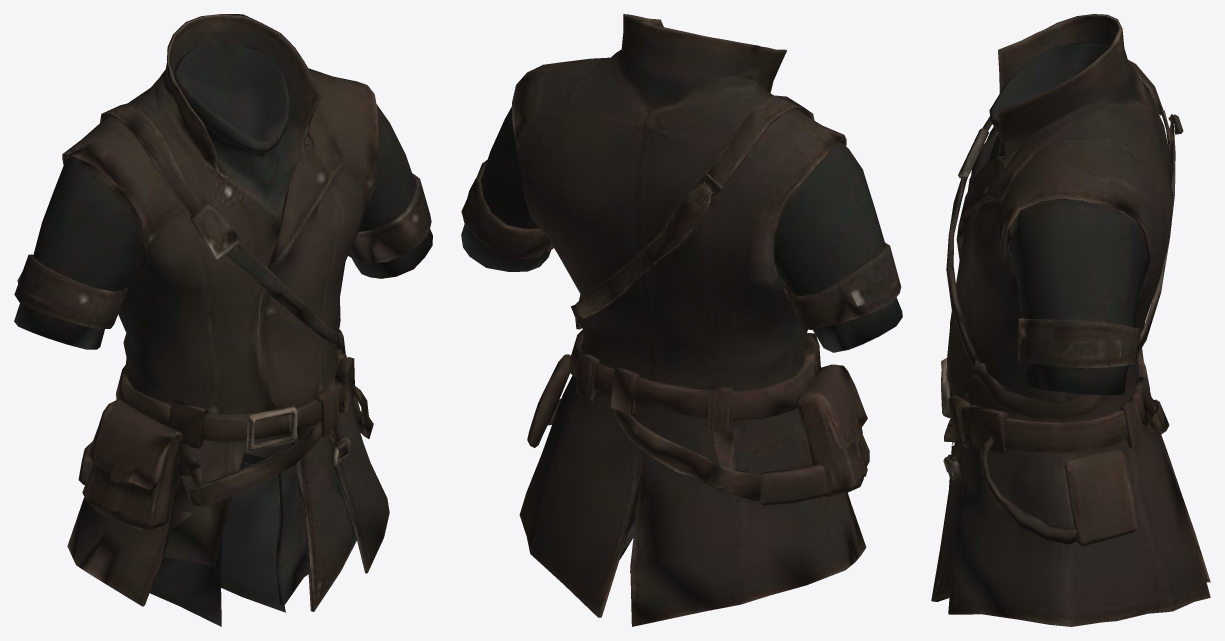
Rendered from leather_armor.glb.
3 views of the same model, side by side, from view 1: azimuth 30°, elevation 25°; view 2: azimuth 150°, elevation 25°; view 3: azimuth 270°, elevation 25° (orthographic). The views are drawn at different scales.
Visible parts, largest first — view 1: leather_armor; view 2: leather_armor; view 3: leather_armor.
Boxes of the visible parts, <box> form: leather_armor: <box>14,14,432,626</box>; leather_armor: <box>461,14,902,626</box>; leather_armor: <box>931,14,1210,626</box>.
Size of the model in its own units: 0.4793 by 0.6 by 0.2701.
1 material, 1 textured.
